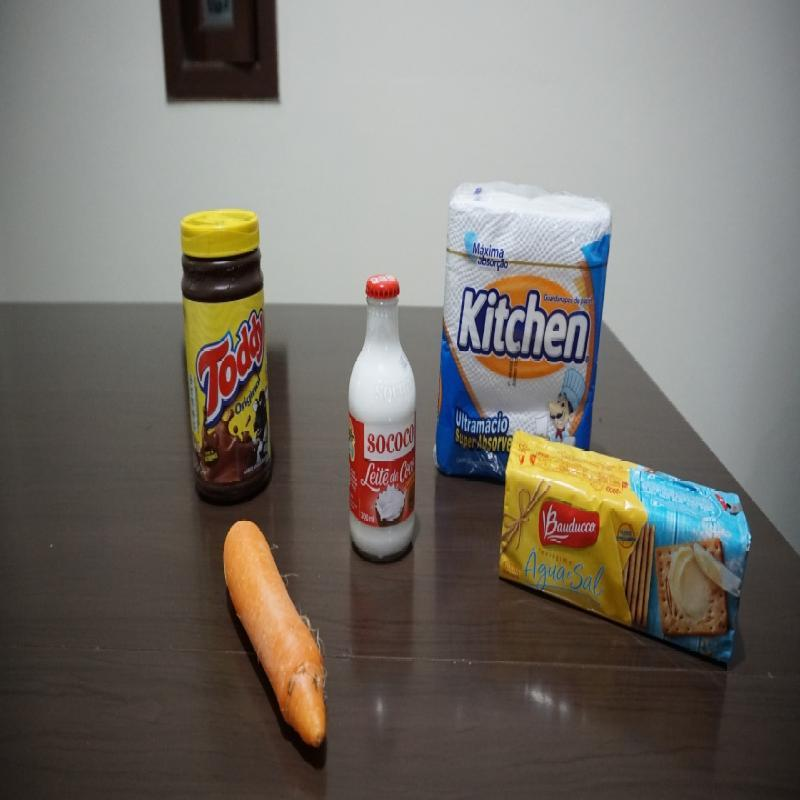Carrot: (218, 516, 330, 752)
Chocolate Powder: (179, 207, 274, 508)
Coconut Milk: (345, 272, 418, 563)
Cracker: (493, 428, 752, 669)
Napkin: (430, 180, 614, 496)
